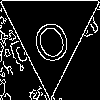O: (25, 8, 74, 68)
